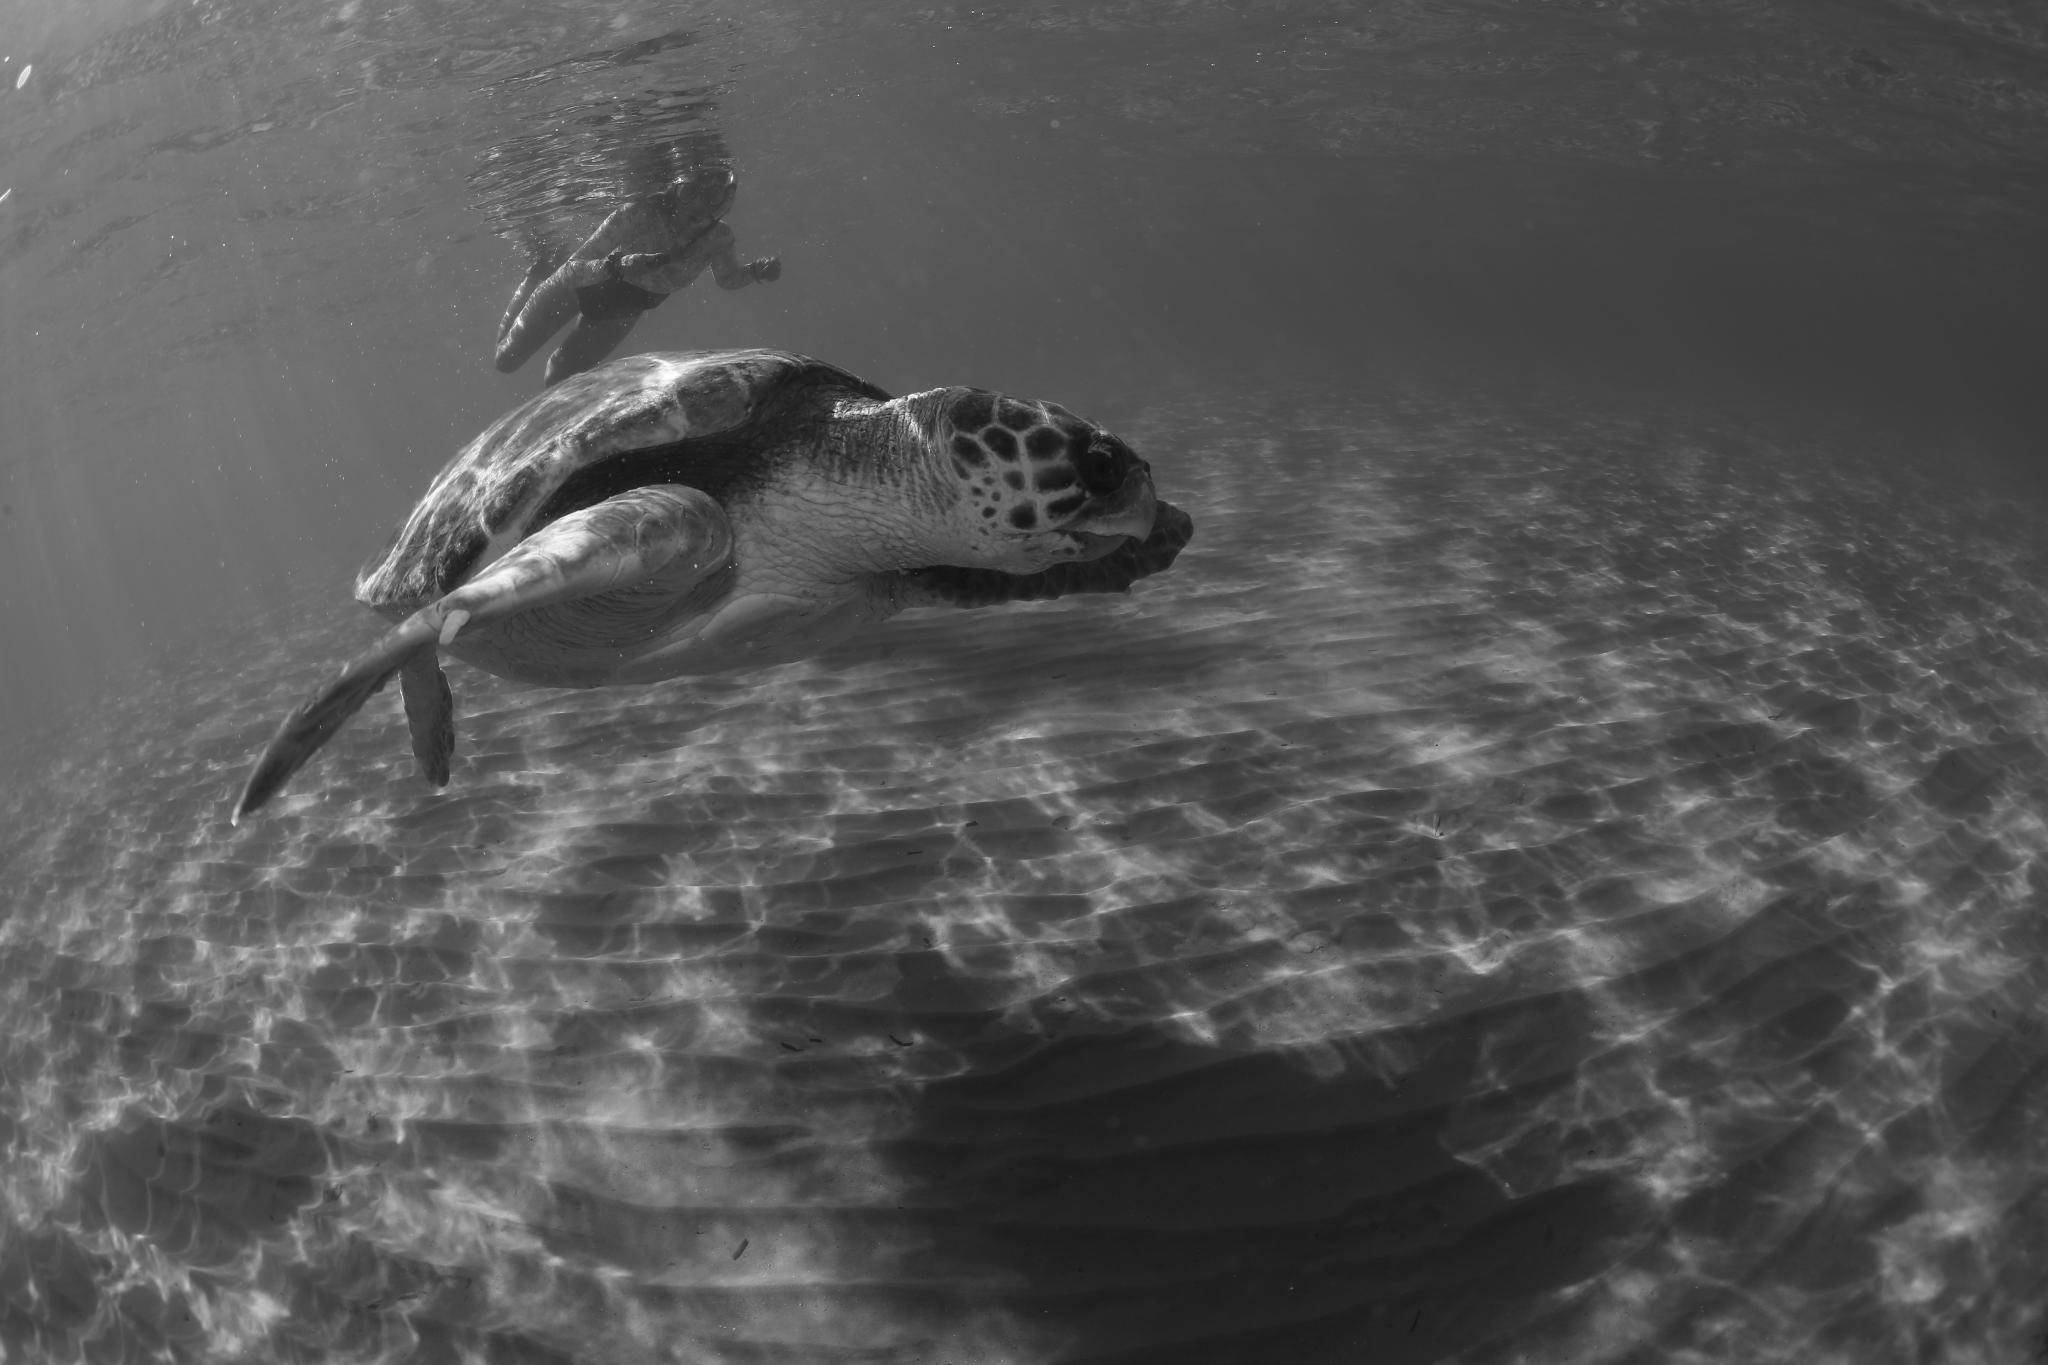Head: (889, 387, 1157, 575)
